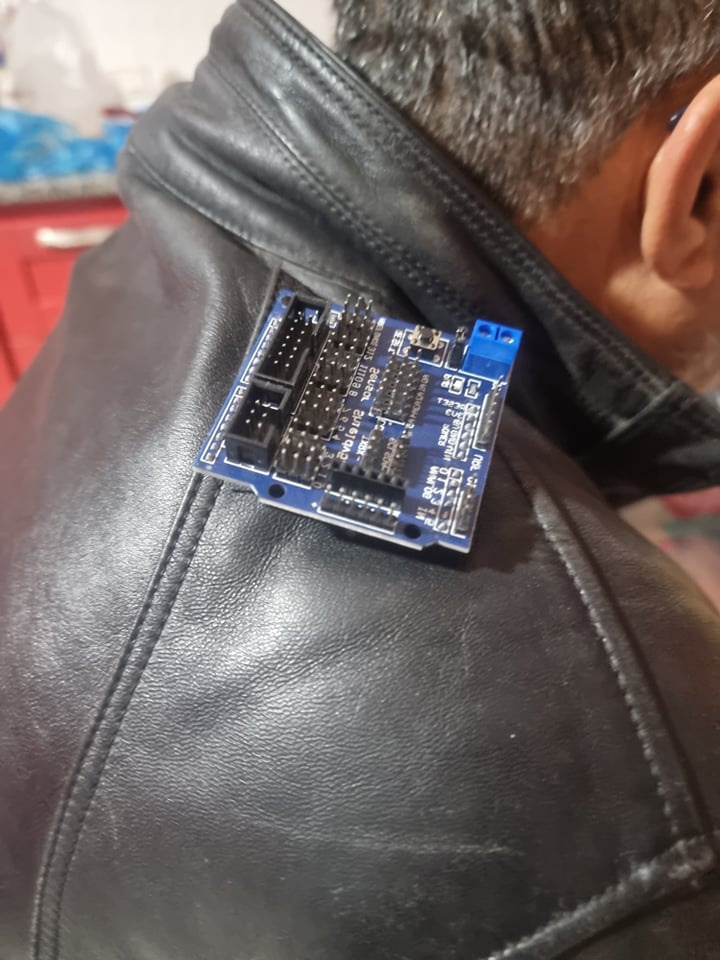5V EXPANSION: (195, 287, 524, 560)
